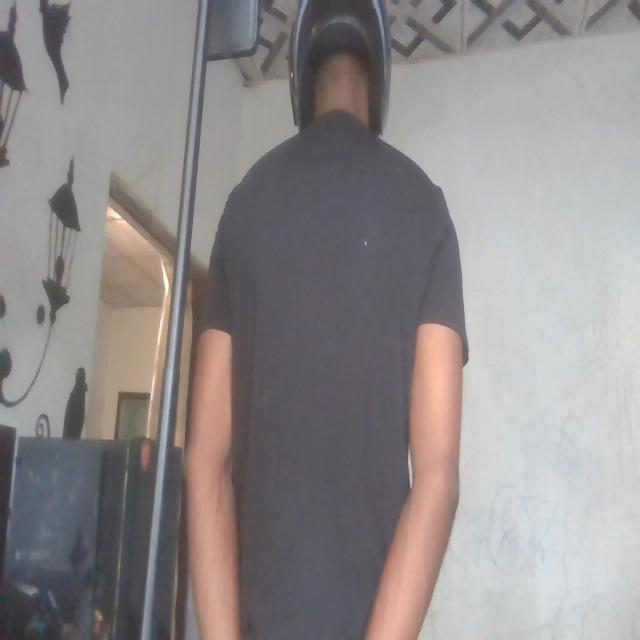Helmet_Wearer: (290, 3, 398, 166)
Person: (187, 0, 476, 640)
